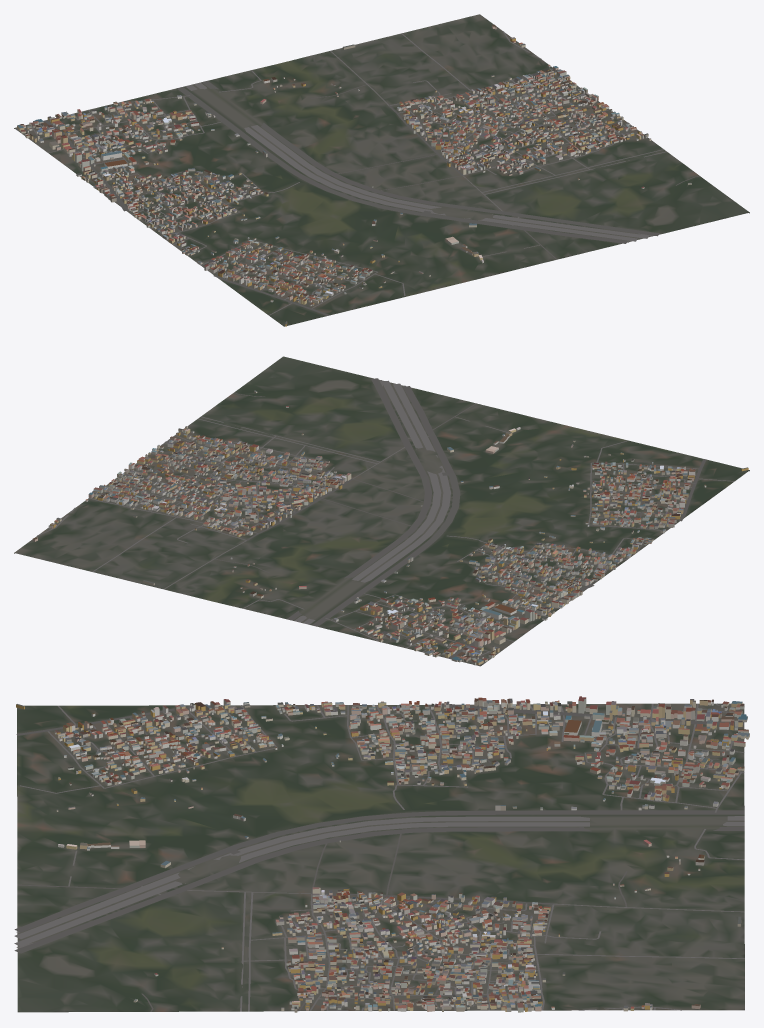
3 renders of one model, top to bottom at view 1: azimuth 30°, elevation 25°; view 2: azimuth 150°, elevation 25°; view 3: azimuth 270°, elevation 25°, orthographic. The views are drawn at different scales.
Parts seen in each view (by area): view 1: ground, buildings, roads; view 2: ground, buildings, roads; view 3: ground, buildings, roads.
Part boxes in pixels (<box>): ground: <box>14,14,749,326</box>; buildings: <box>17,24,691,326</box>; roads: <box>24,31,700,315</box>; ground: <box>14,356,749,666</box>; buildings: <box>32,390,748,665</box>; roads: <box>37,378,734,660</box>; ground: <box>17,703,744,1012</box>; buildings: <box>16,696,749,1012</box>; roads: <box>14,703,744,1011</box>.
Size of the model in its own units: 1413 by 32.36 by 1419.
